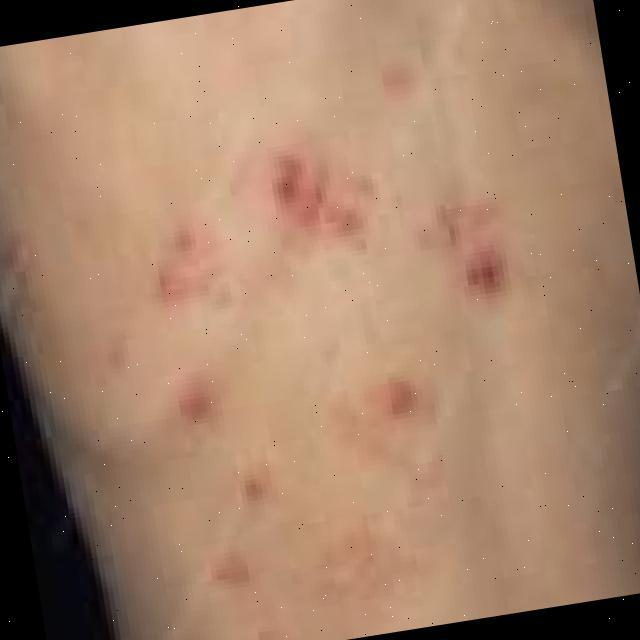Shingles: (150, 151, 508, 313), (212, 551, 261, 590), (375, 376, 420, 416), (178, 379, 216, 424), (242, 477, 266, 502)
